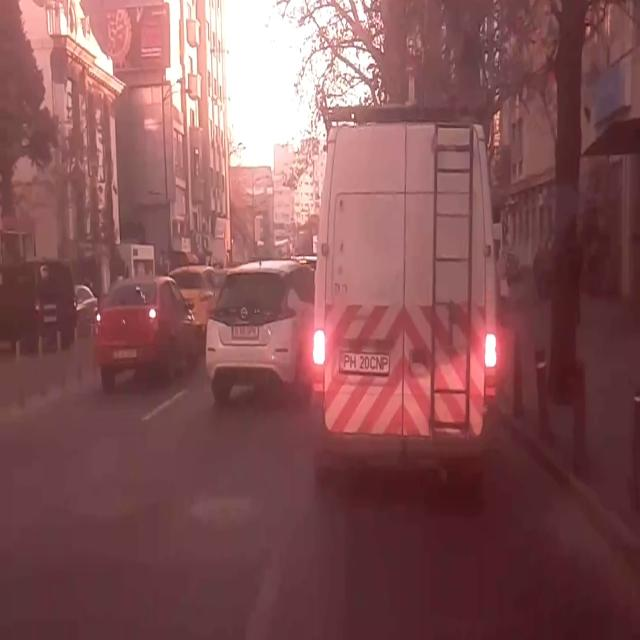Autre: (340, 350, 390, 380)
